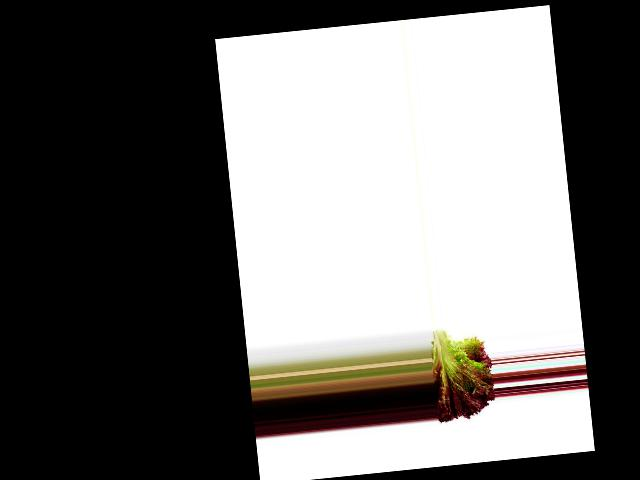lettuce: (428, 322, 496, 428)
